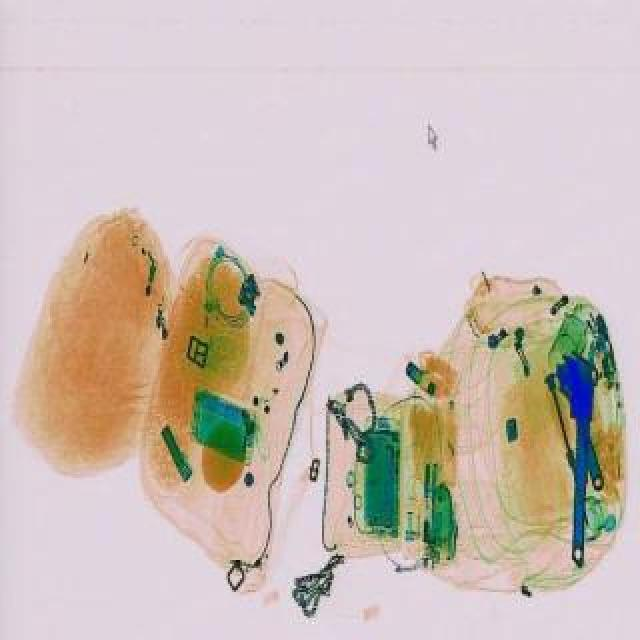scissors: (548, 348, 618, 490)
